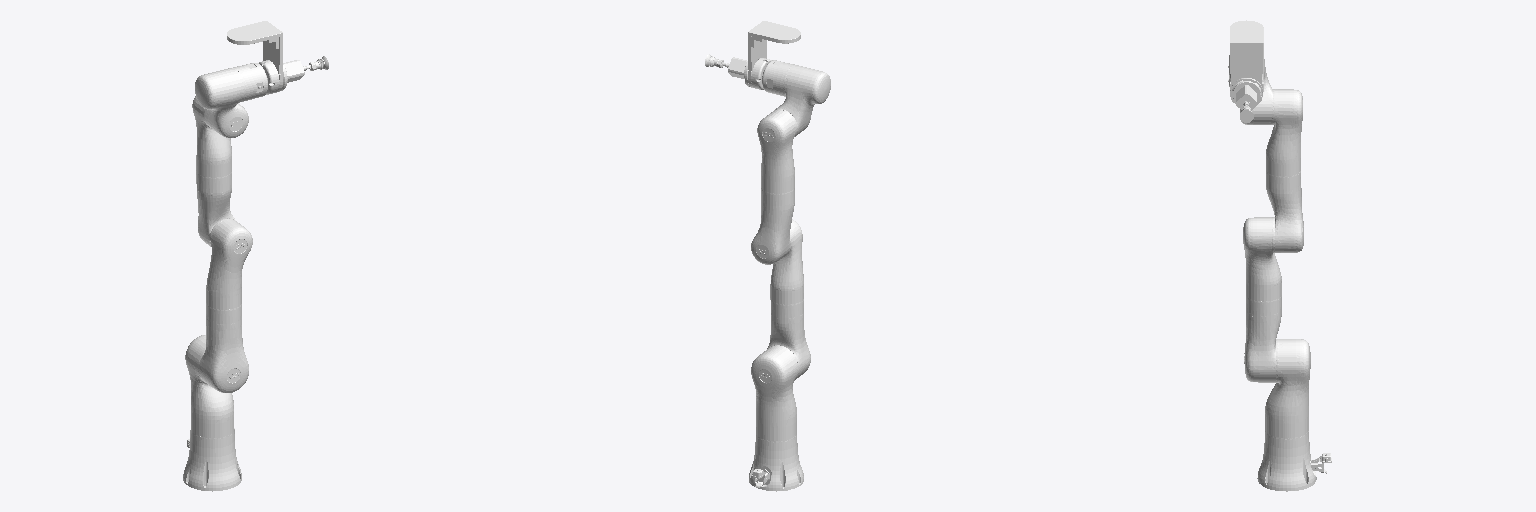
The robot description file, URDF, robot "A02L-MP4-HT_defeature":
<?xml version="1.0" encoding="utf-8"?>
<!-- This URDF was automatically created by SolidWorks to URDF Exporter! Originally created by Stephen Brawner (brawner@gmail.com) 
     Commit Version: 1.6.0-4-g7f85cfe  Build Version: 1.6.7995.38578
     For more information, please see http://wiki.ros.org/sw_urdf_exporter -->
<robot
  name="A02L-MP4-HT_defeature">
  <link
    name="base_link">
    <inertial>
      <origin
        xyz="9.54322163074319E-05 0.000606145632503457 0.0688750525869945"
        rpy="0 0 0" />
      <mass
        value="2.27421807738671" />
      <inertia
        ixx="0.00753839230636588"
        ixy="-6.45363839768053E-08"
        ixz="1.08190550040789E-05"
        iyy="0.00736348103949083"
        iyz="-4.86386923658337E-06"
        izz="0.00567931508554521" />
    </inertial>
    <visual>
      <origin
        xyz="0 0 0"
        rpy="0 0 0" />
      <geometry>
        <mesh
          filename="package://A02L-MP4-HT_defeature/meshes/base_link.STL" />
      </geometry>
      <material
        name="">
        <color
          rgba="1 1 1 1" />
      </material>
    </visual>
    <collision>
      <origin
        xyz="0 0 0"
        rpy="0 0 0" />
      <geometry>
        <mesh
          filename="package://A02L-MP4-HT_defeature/meshes/base_link.STL" />
      </geometry>
    </collision>
  </link>
  <link
    name="link_1">
    <inertial>
      <origin
        xyz="2.65121978547649E-07 0.00874293096679109 0.126094808515335"
        rpy="0 0 0" />
      <mass
        value="2.71452997618823" />
      <inertia
        ixx="0.0185167844247341"
        ixy="2.1452690707591E-08"
        ixz="8.3385101351351E-08"
        iyy="0.0187945181840835"
        iyz="-0.00139814469090032"
        izz="0.00473099086746401" />
    </inertial>
    <visual>
      <origin
        xyz="0 0 0"
        rpy="0 0 0" />
      <geometry>
        <mesh
          filename="package://A02L-MP4-HT_defeature/meshes/link_1.STL" />
      </geometry>
      <material
        name="">
        <color
          rgba="1 1 1 1" />
      </material>
    </visual>
    <collision>
      <origin
        xyz="0 0 0"
        rpy="0 0 0" />
      <geometry>
        <mesh
          filename="package://A02L-MP4-HT_defeature/meshes/link_1.STL" />
      </geometry>
    </collision>
  </link>
  <joint
    name="joint_1"
    type="revolute">
    <origin
      xyz="-0.00016498 4.6712E-05 0.1542"
      rpy="0 0 0" />
    <parent
      link="base_link" />
    <child
      link="link_1" />
    <axis
      xyz="0 0 -1" />
    <limit
      lower="-3.14"
      upper="3.14"
      effort="300"
      velocity="3" />
  </joint>
  <link
    name="link_2">
    <inertial>
      <origin
        xyz="1.32320670651401E-07 0.069605040761025 0.0392576099511216"
        rpy="0 0 0" />
      <mass
        value="2.1491362761356" />
      <inertia
        ixx="0.0132790899166167"
        ixy="-2.55499553127496E-08"
        ixz="5.16917988171909E-09"
        iyy="0.00299002959228349"
        iyz="0.000450097294780203"
        izz="0.0136976889371151" />
    </inertial>
    <visual>
      <origin
        xyz="0 0 0"
        rpy="0 0 0" />
      <geometry>
        <mesh
          filename="package://A02L-MP4-HT_defeature/meshes/link_2.STL" />
      </geometry>
      <material
        name="">
        <color
          rgba="1 1 1 1" />
      </material>
    </visual>
    <collision>
      <origin
        xyz="0 0 0"
        rpy="0 0 0" />
      <geometry>
        <mesh
          filename="package://A02L-MP4-HT_defeature/meshes/link_2.STL" />
      </geometry>
    </collision>
  </link>
  <joint
    name="joint_2"
    type="revolute">
    <origin
      xyz="0.00037978 -0.0297 0.2104"
      rpy="1.5708 0 0" />
    <parent
      link="link_1" />
    <child
      link="link_2" />
    <axis
      xyz="0 0 1" />
    <limit
      lower="-3.14"
      upper="3.14"
      effort="300"
      velocity="3" />
  </joint>
  <link
    name="link_3">
    <inertial>
      <origin
        xyz="0.00805125966153584 -0.00710816722938604 0.11563003502568"
        rpy="0 0 0" />
      <mass
        value="1.67843166004397" />
      <inertia
        ixx="0.00895009607207795"
        ixy="7.20924199501072E-05"
        ixz="-0.000926025290476895"
        iyy="0.0091097851030725"
        iyz="0.000563164884683681"
        izz="0.00213042423610635" />
    </inertial>
    <visual>
      <origin
        xyz="0 0 0"
        rpy="0 0 0" />
      <geometry>
        <mesh
          filename="package://A02L-MP4-HT_defeature/meshes/link_3.STL" />
      </geometry>
      <material
        name="">
        <color
          rgba="1 1 1 1" />
      </material>
    </visual>
    <collision>
      <origin
        xyz="0 0 0"
        rpy="0 0 0" />
      <geometry>
        <mesh
          filename="package://A02L-MP4-HT_defeature/meshes/link_3.STL" />
      </geometry>
    </collision>
  </link>
  <joint
    name="joint_3"
    type="revolute">
    <origin
      xyz="-1.1281E-05 0.2047 0.034739"
      rpy="-1.5708 0 0" />
    <parent
      link="link_2" />
    <child
      link="link_3" />
    <axis
      xyz="0 0 1" />
    <limit
      lower="-3.14"
      upper="3.14"
      effort="300"
      velocity="3" />
  </joint>
  <link
    name="link_4">
    <inertial>
      <origin
        xyz="-0.0123024832337976 -0.0777834481794627 0.0326046573874556"
        rpy="0 0 0" />
      <mass
        value="1.67840212388538" />
      <inertia
        ixx="0.00914865029648978"
        ixy="-0.000926003092818068"
        ixz="-8.65465879195015E-05"
        iyy="0.00211120213179176"
        iyz="-0.000668653493650447"
        izz="0.00932250552459644" />
    </inertial>
    <visual>
      <origin
        xyz="0 0 0"
        rpy="0 0 0" />
      <geometry>
        <mesh
          filename="package://A02L-MP4-HT_defeature/meshes/link_4.STL" />
      </geometry>
      <material
        name="">
        <color
          rgba="1 1 1 1" />
      </material>
    </visual>
    <collision>
      <origin
        xyz="0 0 0"
        rpy="0 0 0" />
      <geometry>
        <mesh
          filename="package://A02L-MP4-HT_defeature/meshes/link_4.STL" />
      </geometry>
    </collision>
  </link>
  <joint
    name="joint_4"
    type="revolute">
    <origin
      xyz="0.020002 0.0297 0.19"
      rpy="-1.5708 0 0" />
    <parent
      link="link_3" />
    <child
      link="link_4" />
    <axis
      xyz="0 0 1" />
    <limit
      lower="-3.14"
      upper="3.14"
      effort="300"
      velocity="3" />
  </joint>
  <link
    name="link_5">
    <inertial>
      <origin
        xyz="-1.28185293647894E-07 0.00629164794403702 0.114298594934797"
        rpy="0 0 0" />
      <mass
        value="1.65473366343203" />
      <inertia
        ixx="0.00876720196621847"
        ixy="1.54794339049766E-08"
        ixz="1.77365221817252E-08"
        iyy="0.00883668009551663"
        iyz="-0.000496916161312464"
        izz="0.00194283286816607" />
    </inertial>
    <visual>
      <origin
        xyz="0 0 0"
        rpy="0 0 0" />
      <geometry>
        <mesh
          filename="package://A02L-MP4-HT_defeature/meshes/link_5.STL" />
      </geometry>
      <material
        name="">
        <color
          rgba="1 1 1 1" />
      </material>
    </visual>
    <collision>
      <origin
        xyz="0 0 0"
        rpy="0 0 0" />
      <geometry>
        <mesh
          filename="package://A02L-MP4-HT_defeature/meshes/link_5.STL" />
      </geometry>
    </collision>
  </link>
  <joint
    name="joint_5"
    type="revolute">
    <origin
      xyz="-0.019966 -0.1947 0.024952"
      rpy="1.5708 0 0" />
    <parent
      link="link_4" />
    <child
      link="link_5" />
    <axis
      xyz="0 0 1" />
    <limit
      lower="-3.14"
      upper="3.14"
      effort="300"
      velocity="3" />
  </joint>
  <link
    name="link_6">
    <inertial>
      <origin
        xyz="-0.0255300534667632 0.0604104102730547 0.0586768826801492"
        rpy="0 0 0" />
      <mass
        value="1.7833340733217" />
      <inertia
        ixx="0.00721033706504226"
        ixy="0.00184695683124846"
        ixz="0.000487983523152378"
        iyy="0.00369193938138638"
        iyz="-0.00122691353068455"
        izz="0.00791382547539733" />
    </inertial>
    <visual>
      <origin
        xyz="0 0 0"
        rpy="0 0 0" />
      <geometry>
        <mesh
          filename="package://A02L-MP4-HT_defeature/meshes/link_6.STL" />
      </geometry>
      <material
        name="">
        <color
          rgba="1 1 1 1" />
      </material>
    </visual>
    <collision>
      <origin
        xyz="0 0 0"
        rpy="0 0 0" />
      <geometry>
        <mesh
          filename="package://A02L-MP4-HT_defeature/meshes/link_6.STL" />
      </geometry>
    </collision>
  </link>
  <joint
    name="joint_6"
    type="revolute">
    <origin
      xyz="2.6809E-05 -0.0297 0.19032"
      rpy="1.5708 0 0" />
    <parent
      link="link_5" />
    <child
      link="link_6" />
    <axis
      xyz="0 0 1" />
    <limit
      lower="-3.14"
      upper="3.14"
      effort="200"
      velocity="3" />
  </joint>
  <link
    name="link_7">
    <inertial>
      <origin
        xyz="-7.26363639058647E-05 1.7169530369926E-05 0.0379790808037536"
        rpy="0 0 0" />
      <mass
        value="0.580710978612939" />
      <inertia
        ixx="0.000630179898796712"
        ixy="4.90773511864953E-09"
        ixz="2.83774373909452E-07"
        iyy="0.000631603753066448"
        iyz="-6.97494275415876E-08"
        izz="0.000683898993289474" />
    </inertial>
    <visual>
      <origin
        xyz="0 0 0"
        rpy="0 0 0" />
      <geometry>
        <mesh
          filename="package://A02L-MP4-HT_defeature/meshes/link_7.STL" />
      </geometry>
      <material
        name="">
        <color
          rgba="1 1 1 1" />
      </material>
    </visual>
    <collision>
      <origin
        xyz="0 0 0"
        rpy="0 0 0" />
      <geometry>
        <mesh
          filename="package://A02L-MP4-HT_defeature/meshes/link_7.STL" />
      </geometry>
    </collision>
  </link>
  <joint
    name="joint_7"
    type="revolute">
    <origin
      xyz="0.0147 0.11 0.073"
      rpy="1.5708 0 1.5708" />
    <parent
      link="link_6" />
    <child
      link="link_7" />
    <axis
      xyz="0 0 1" />
    <limit
      lower="-3.14"
      upper="3.14"
      effort="200"
      velocity="3" />
  </joint>
  <link
    name="tool_link">
    <inertial>
      <origin
        xyz="0.0434978460537863 -4.74456146839913E-05 0.0336448990949839"
        rpy="0 0 0" />
      <mass
        value="0.787892588002377" />
      <inertia
        ixx="0.000830335701968103"
        ixy="1.00522167301468E-05"
        ixz="1.30493125753733E-06"
        iyy="0.000996312400094622"
        iyz="5.21591677150424E-07"
        izz="0.000950974681898122" />
    </inertial>
    <visual>
      <origin
        xyz="0 0 0"
        rpy="0 0 0" />
      <geometry>
        <mesh
          filename="package://A02L-MP4-HT_defeature/meshes/tool_link.STL" />
      </geometry>
      <material
        name="">
        <color
          rgba="1 1 1 1" />
      </material>
    </visual>
    <collision>
      <origin
        xyz="0 0 0"
        rpy="0 0 0" />
      <geometry>
        <mesh
          filename="package://A02L-MP4-HT_defeature/meshes/tool_link.STL" />
      </geometry>
    </collision>
  </link>
  <joint
    name="joint_8"
    type="fixed">
    <origin
      xyz="0 0 0.081"
      rpy="0 0 0" />
    <parent
      link="link_7" />
    <child
      link="tool_link" />
    <axis
      xyz="0 0 0" />
  </joint>
</robot>

--- What the picture shows (computed from the rendered views, not written in the file) ---
3 views of the same robot in one strip: view 1: azimuth 30°, elevation 25°; view 2: azimuth 150°, elevation 25°; view 3: azimuth 270°, elevation 25° (orthographic).
Model A02L-MP4-HT_defeature with 9 links and 8 joints (7 revolute, 1 fixed), rooted at base_link, posed every joint at zero.
Visible links, largest first — view 1: link_2, link_3, link_6, base_link, link_1, tool_link, link_5, link_4, link_7; view 2: link_1, link_5, base_link, link_4, tool_link, link_6, link_3, link_2, link_7; view 3: link_1, tool_link, base_link, link_3, link_5, link_2, link_4, link_6.
Link boxes in pixels (x1=…): link_2: x1=199, y1=303, x2=248, y2=392; link_3: x1=206, y1=218, x2=252, y2=309; link_6: x1=195, y1=67, x2=248, y2=137; base_link: x1=183, y1=428, x2=241, y2=491; link_1: x1=185, y1=335, x2=233, y2=437; tool_link: x1=227, y1=21, x2=328, y2=94; link_5: x1=192, y1=96, x2=231, y2=177; link_4: x1=196, y1=170, x2=235, y2=246; link_7: x1=235, y1=63, x2=267, y2=101; link_1: x1=751, y1=345, x2=798, y2=440; link_5: x1=757, y1=109, x2=797, y2=193; base_link: x1=749, y1=435, x2=803, y2=491; link_4: x1=751, y1=188, x2=794, y2=264; tool_link: x1=705, y1=21, x2=800, y2=89; link_6: x1=775, y1=65, x2=830, y2=136; link_3: x1=770, y1=219, x2=803, y2=304; link_2: x1=767, y1=298, x2=810, y2=378; link_7: x1=762, y1=60, x2=794, y2=96; link_1: x1=1265, y1=339, x2=1310, y2=437; tool_link: x1=1230, y1=20, x2=1263, y2=122; base_link: x1=1257, y1=431, x2=1331, y2=491; link_3: x1=1243, y1=217, x2=1281, y2=301; link_5: x1=1266, y1=89, x2=1302, y2=176; link_2: x1=1244, y1=295, x2=1281, y2=382; link_4: x1=1266, y1=171, x2=1303, y2=252; link_6: x1=1228, y1=55, x2=1272, y2=124.
Bounding box of the posed robot: 0.4038 × 0.2886 × 1.41 m (x, y, z).
Meshes: 9 distinct files referenced, 9 mesh visuals loaded (9 binary STL).
